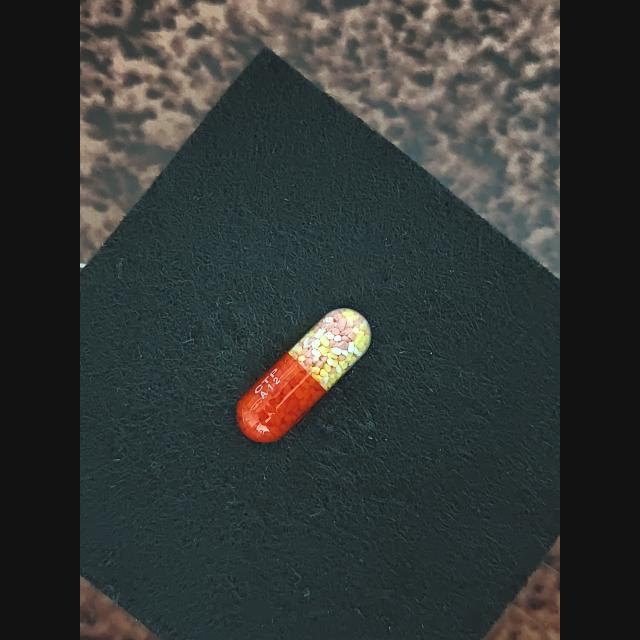Intact Capsule: (236, 308, 371, 443)
